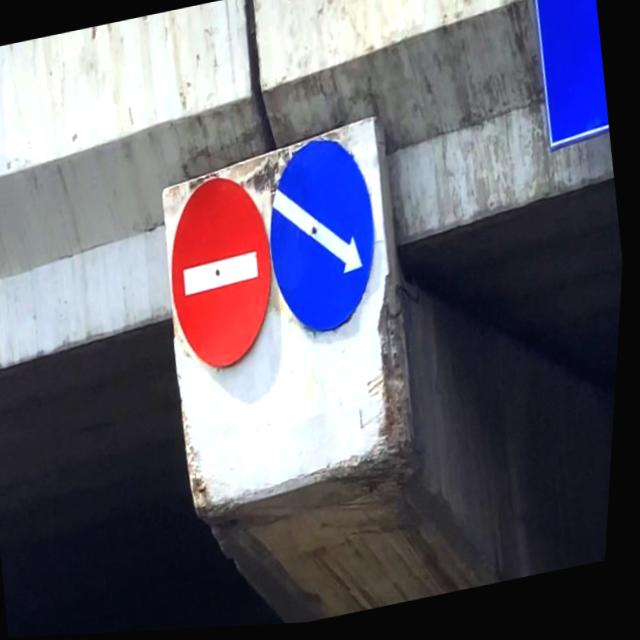Cam di nguoc chieu: (151, 166, 296, 386)
Vong chuong ngai vat sang phai: (252, 131, 397, 351)
